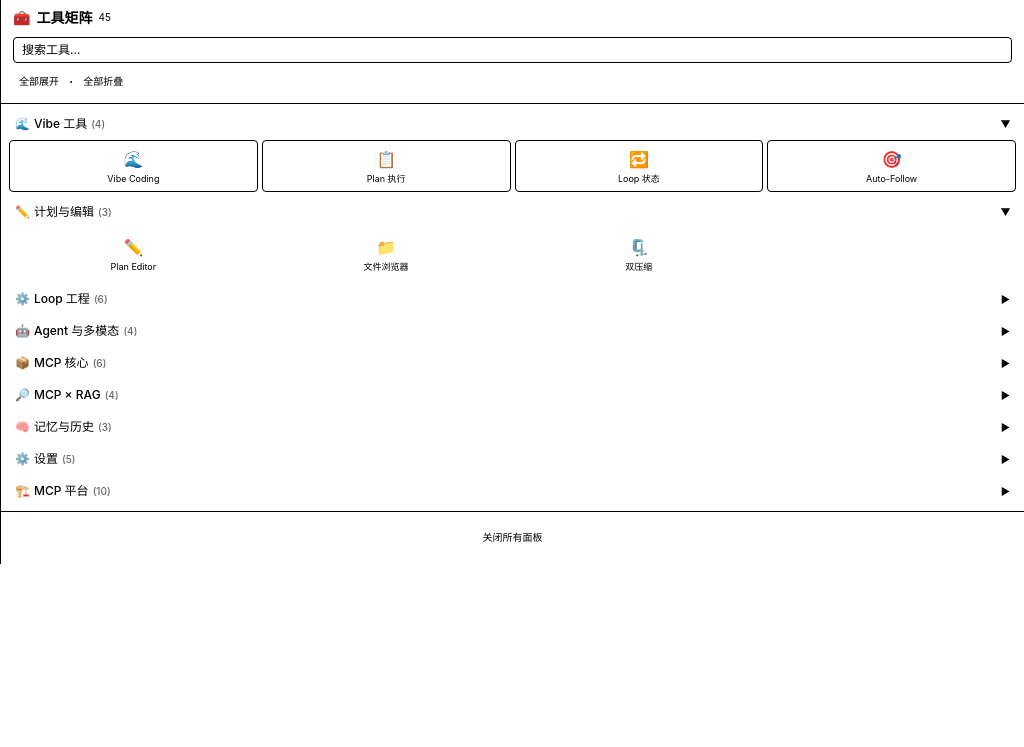
Test: ToolsMatrixPanel › 应包含 MCP 核心工具
This screenshot has width=1024, height=747.
Click the button with test id "tools-expand-all": (39, 82) [13,71,65,93]
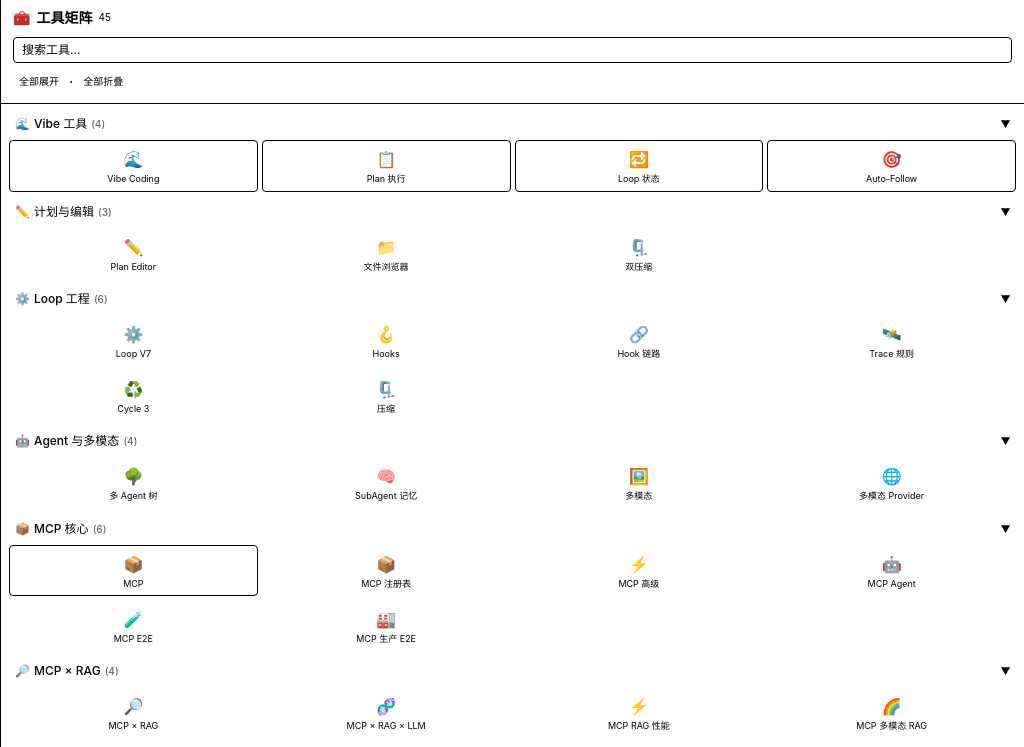
expect the button with test id "tool-mcp" is shown: met, box [9,544,258,596]
expect the button with test id "tool-mcpRegistry" is shown: met, box [262,544,511,596]
